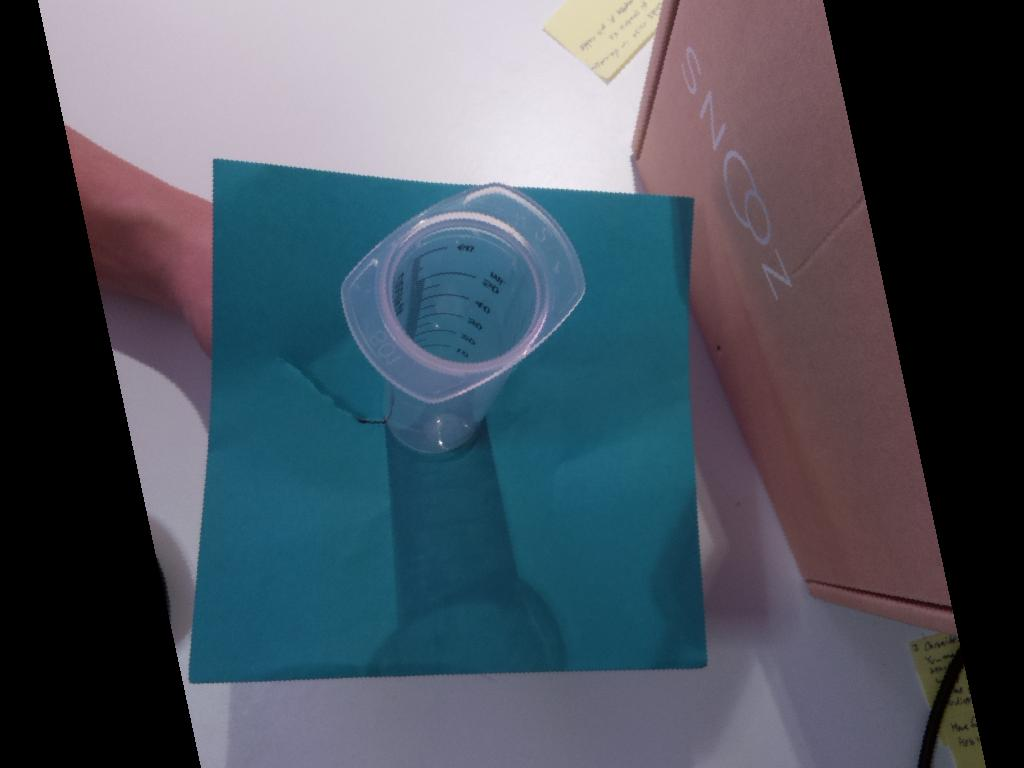clean: (339, 184, 586, 404)
